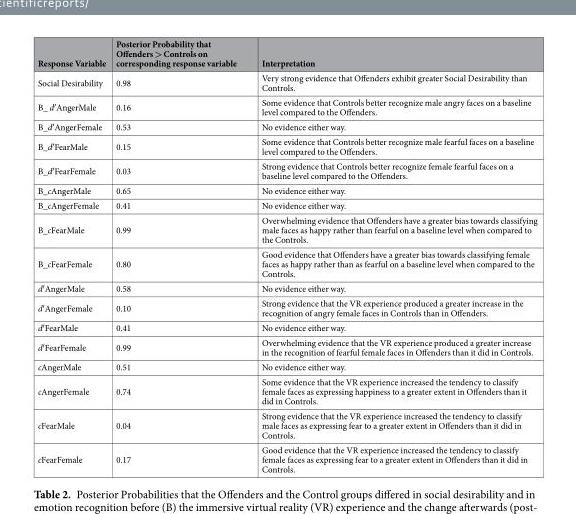table: (36, 37, 536, 474)
table column: (248, 37, 536, 474), (110, 37, 248, 474), (36, 37, 110, 474)
table column header: (36, 37, 536, 70)
table row: (36, 407, 536, 442), (36, 212, 536, 246), (36, 246, 536, 280), (36, 373, 536, 407), (36, 37, 536, 70), (36, 442, 536, 474), (36, 133, 536, 158), (36, 334, 536, 359), (36, 70, 536, 94), (36, 94, 536, 118), (36, 158, 536, 182), (36, 295, 536, 319), (36, 118, 536, 133), (36, 182, 536, 197), (36, 197, 536, 212), (36, 280, 536, 295), (36, 319, 536, 334), (36, 359, 536, 373)
